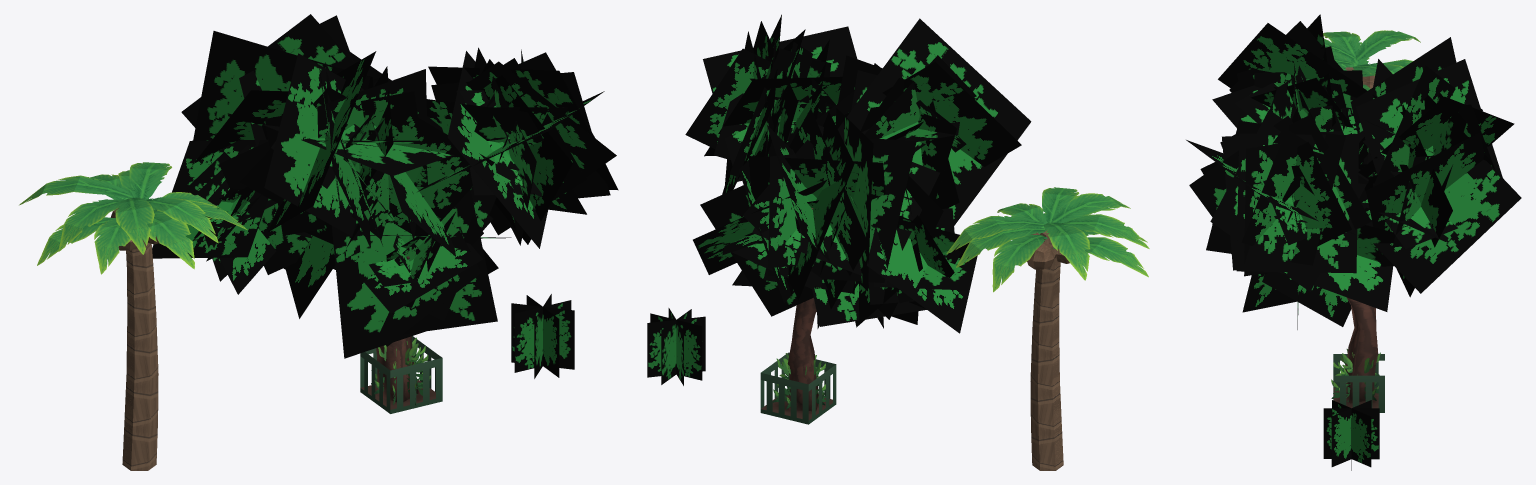
File: arvore.fbx
3 views of the same model, side by side, from view 1: azimuth 30°, elevation 25°; view 2: azimuth 150°, elevation 25°; view 3: azimuth 270°, elevation 25° (orthographic). The views are drawn at different scales.
Parts seen in each view (by area): view 1: Cube, Cylinder, Plane, Plane.002, Plane.001; view 2: Cube, Cylinder, Plane, Plane.002, Plane.001; view 3: Cube, Plane, Cylinder, Plane.002, Plane.001.
Part boxes in pixels (x1=…): Cube: x1=152, y1=14, x2=618, y2=402; Cylinder: x1=19, y1=162, x2=247, y2=470; Plane: x1=511, y1=294, x2=574, y2=378; Plane.002: x1=360, y1=336, x2=442, y2=413; Plane.001: x1=371, y1=337, x2=430, y2=405; Cube: x1=685, y1=14, x2=1031, y2=411; Cylinder: x1=946, y1=187, x2=1149, y2=470; Plane: x1=647, y1=308, x2=705, y2=385; Plane.002: x1=760, y1=352, x2=836, y2=424; Plane.001: x1=773, y1=353, x2=825, y2=409; Cube: x1=1186, y1=14, x2=1521, y2=403; Plane: x1=1323, y1=400, x2=1379, y2=470; Cylinder: x1=1323, y1=30, x2=1420, y2=90; Plane.002: x1=1333, y1=354, x2=1384, y2=412; Plane.001: x1=1331, y1=349, x2=1380, y2=401.
Bounding box in the file's own units: 208 × 149 × 131.
